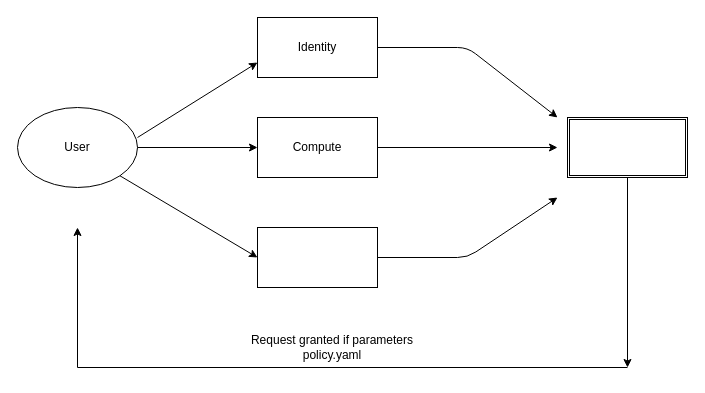
Image size: 705x393. Some labels were removed from this diagram. The shapes that lost their labels are listed below. From the top down, each one's centre as x and y in pixels, then its label:
At point 627,147: "Policy.yaml".
At point 317,257: "Networking".
